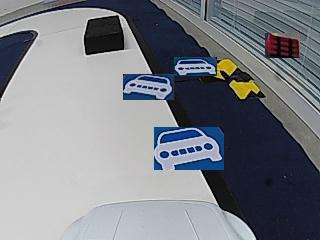block: (84, 15, 124, 55)
